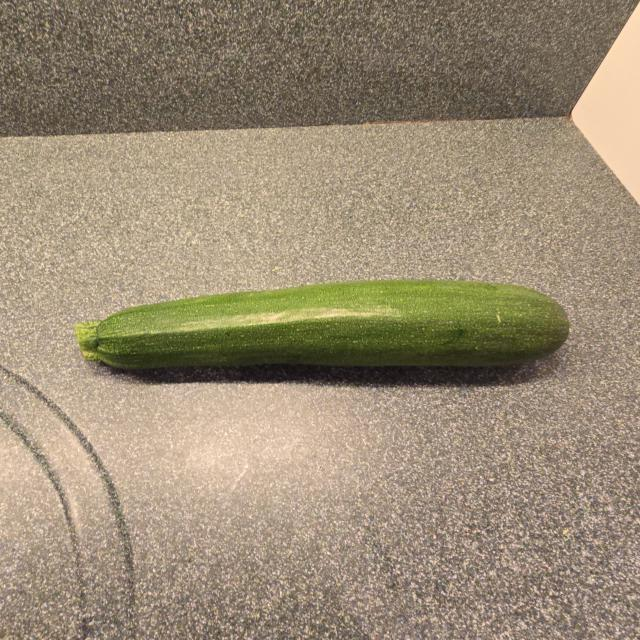Courgette: (76, 280, 569, 369)
